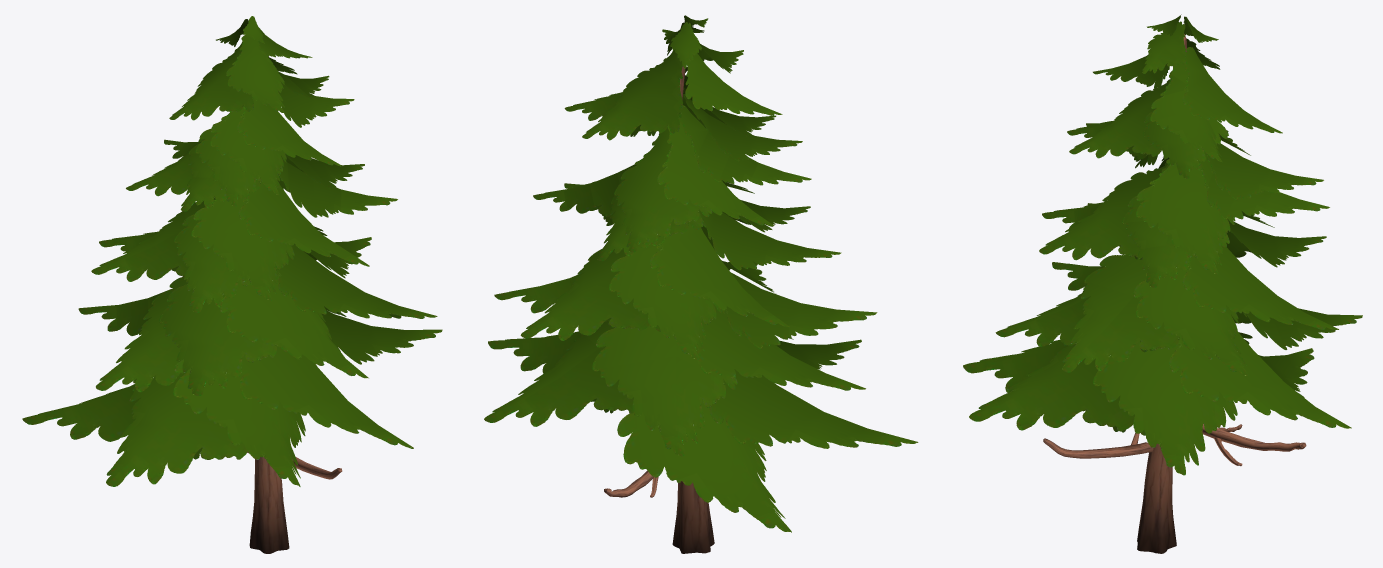
The model's file is qn-Pine_2.glb.
3 views of the same model, side by side, from view 1: azimuth 30°, elevation 25°; view 2: azimuth 150°, elevation 25°; view 3: azimuth 270°, elevation 25° (orthographic). The views are drawn at different scales.
Visible parts, largest first — view 1: Pine_2; view 2: Pine_2; view 3: Pine_2.
Part boxes in pixels (box(x1,y1,x2,y2)): Pine_2: box(22, 16, 442, 553); Pine_2: box(484, 15, 918, 553); Pine_2: box(963, 14, 1362, 553).
Size of the model in its own units: 5.73 by 7.38 by 5.22.
2 materials, 2 textured.
